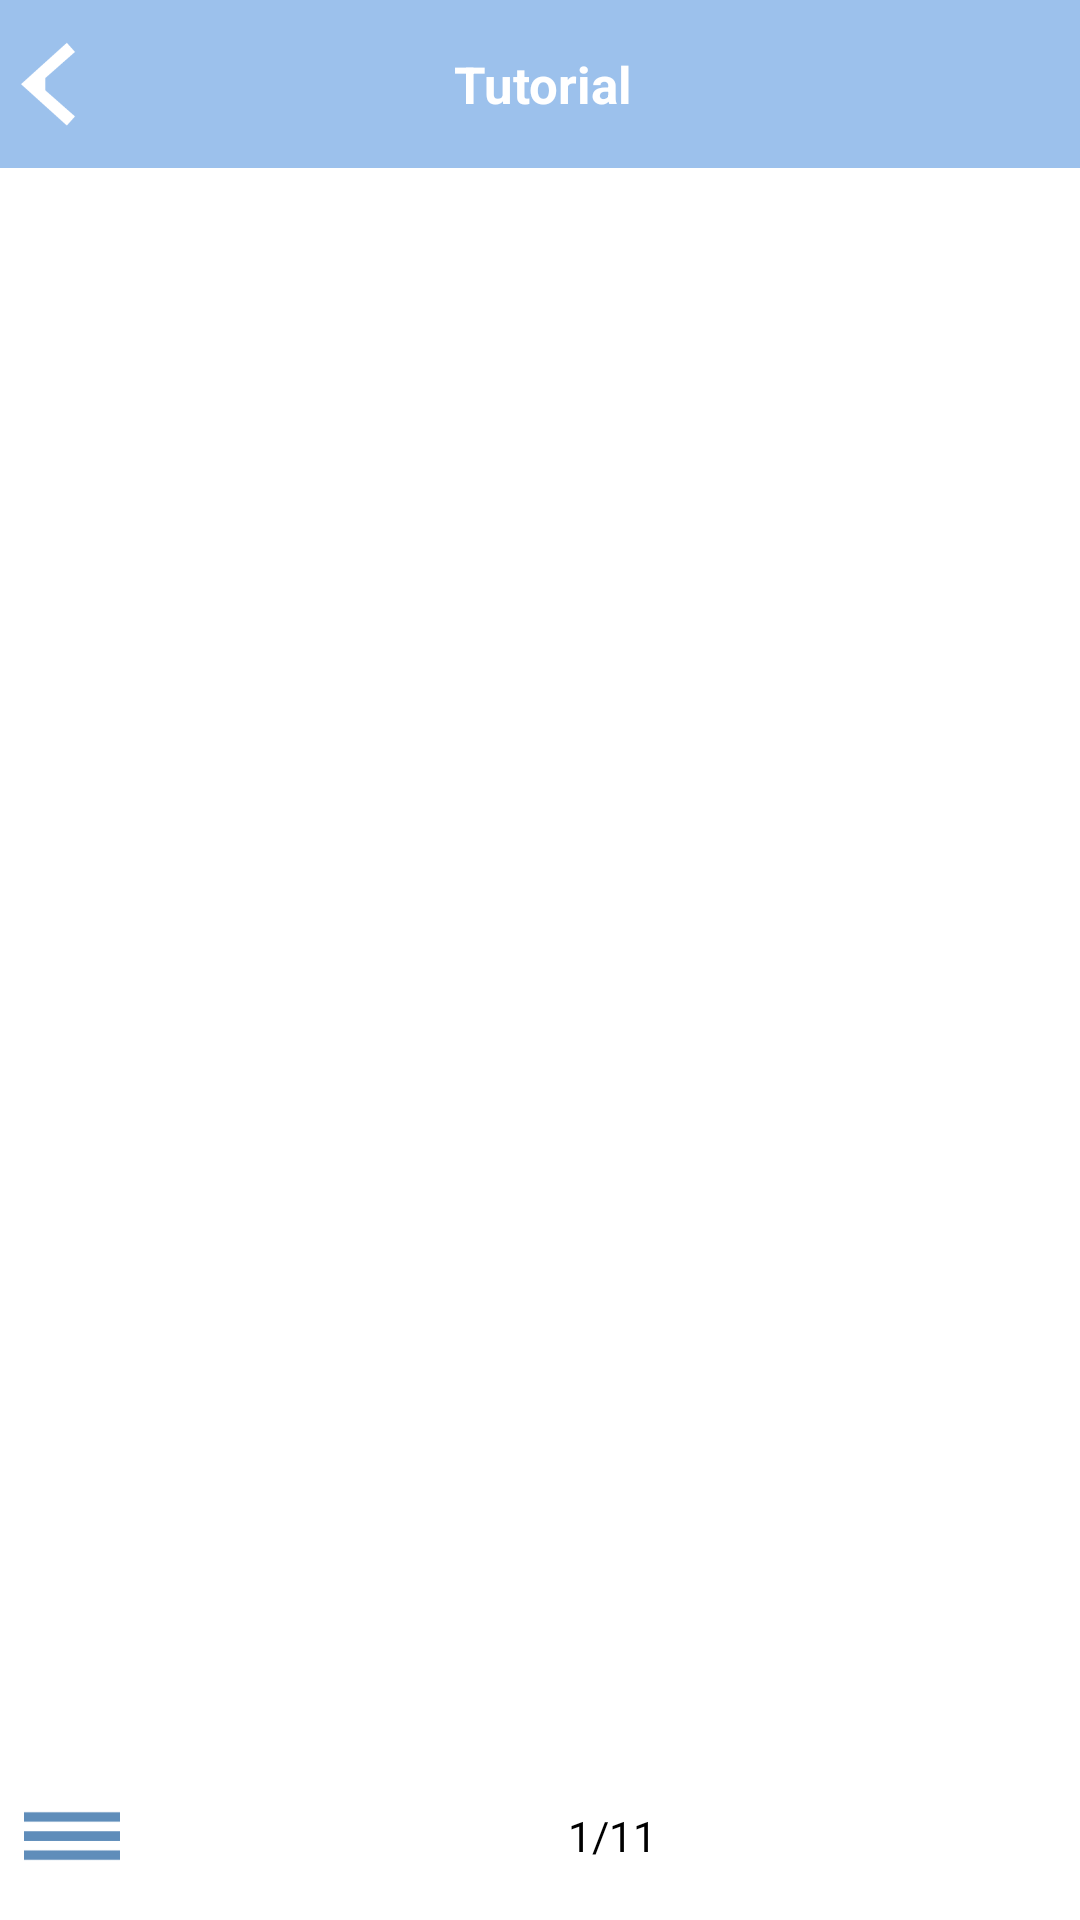

Locate icon controls on the screen. Image size 1080 × 1920, boxes as (x1, y1, x2, y2).
back: (21, 43, 75, 125)
menu: (24, 1812, 120, 1860)
